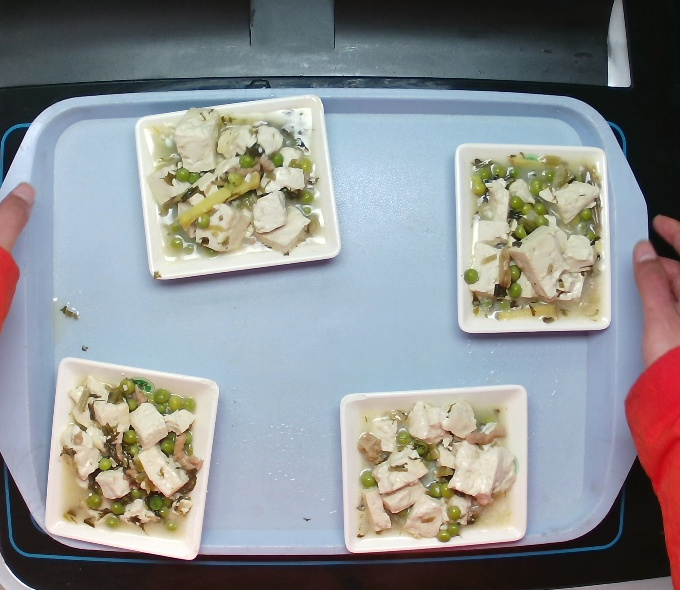wcq-CanDouDouFu: (459, 139, 610, 334), (355, 392, 511, 554), (157, 112, 321, 266), (54, 367, 205, 532)
